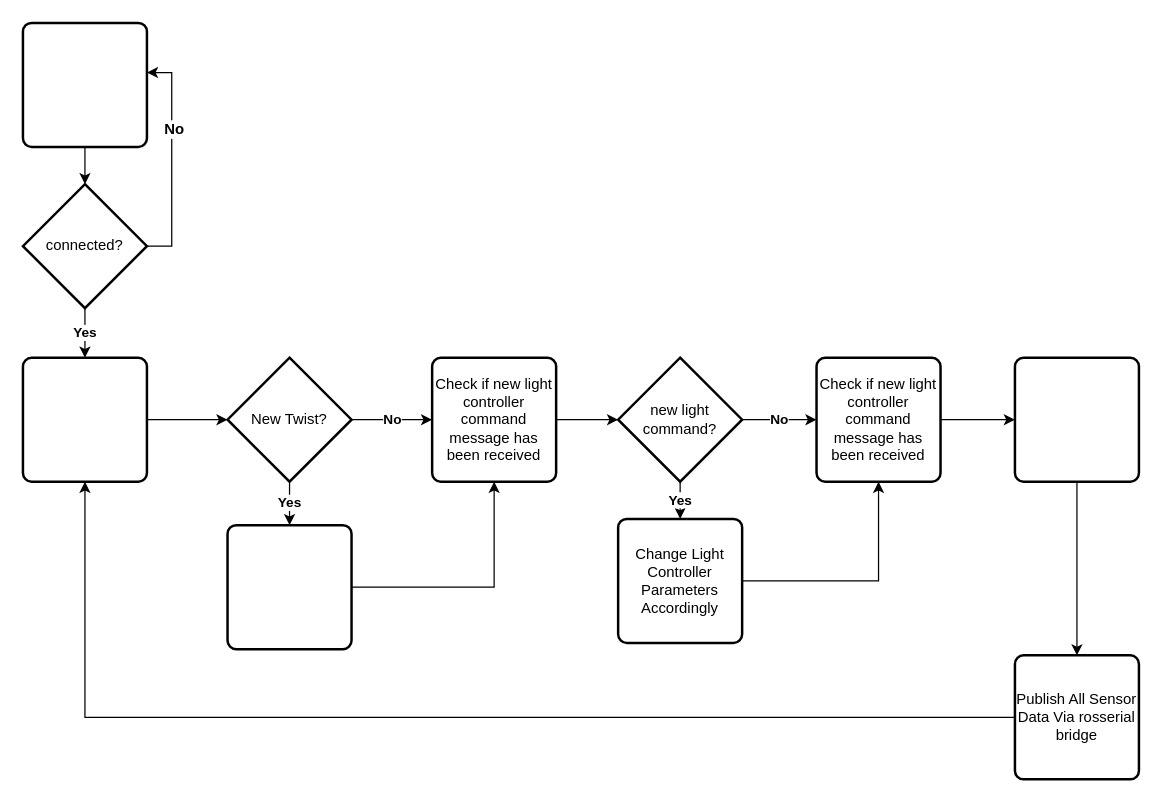
Some shapes in this 1161 by 801 pixel diagram are drawn without their labels. Each missing label, with the centre of its shape:
"Check if new Twist message has been received" goes at point 84,419.
"Establish Serial Connection With rosserial bridge" goes at point 84,84.
"Move Thrusters Accordingly" goes at point 289,586.
"Poll All Sensors" goes at point 1076,419.
